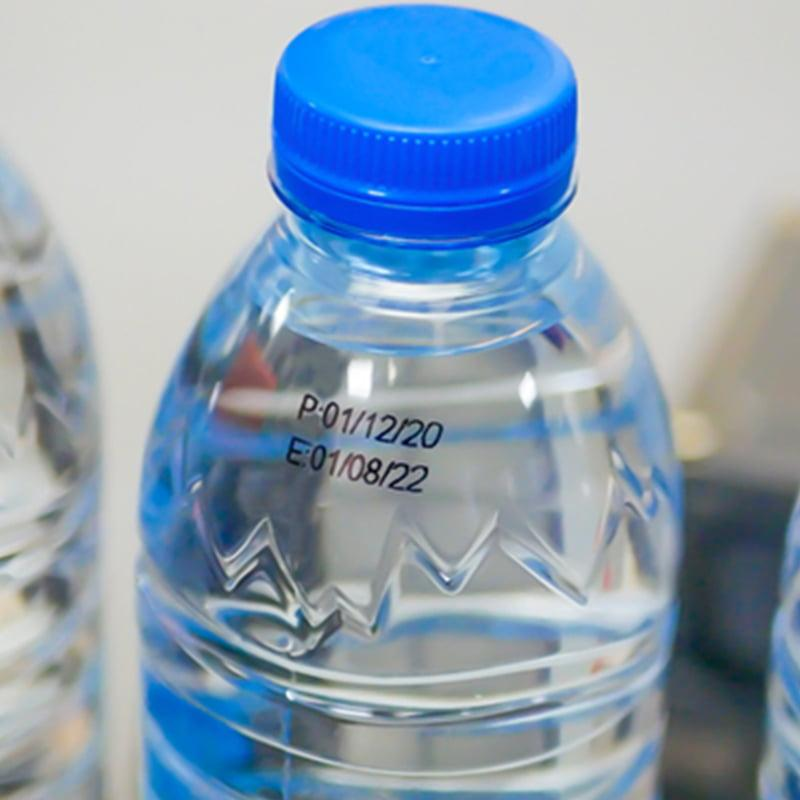plastic: (139, 4, 680, 799)
